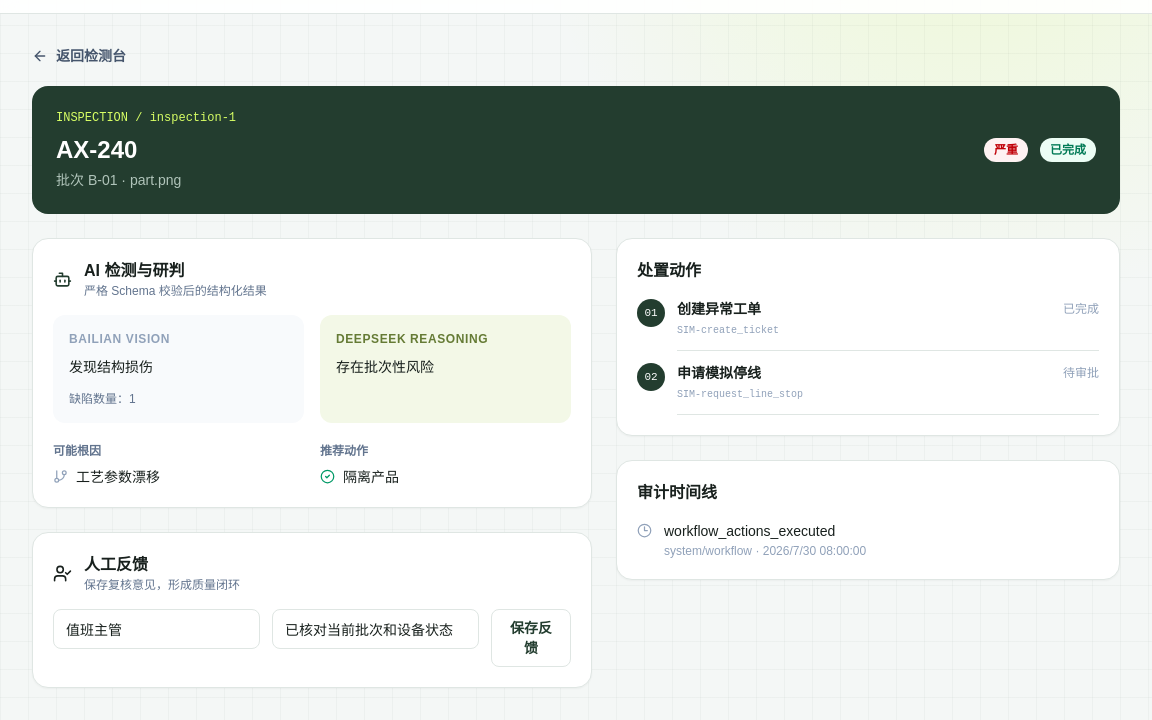
inspection detail › saves and displays human review feedback
(page scrolled)
Click the button "保存反馈": (531, 638) x1=491 y1=609 x2=571 y2=667
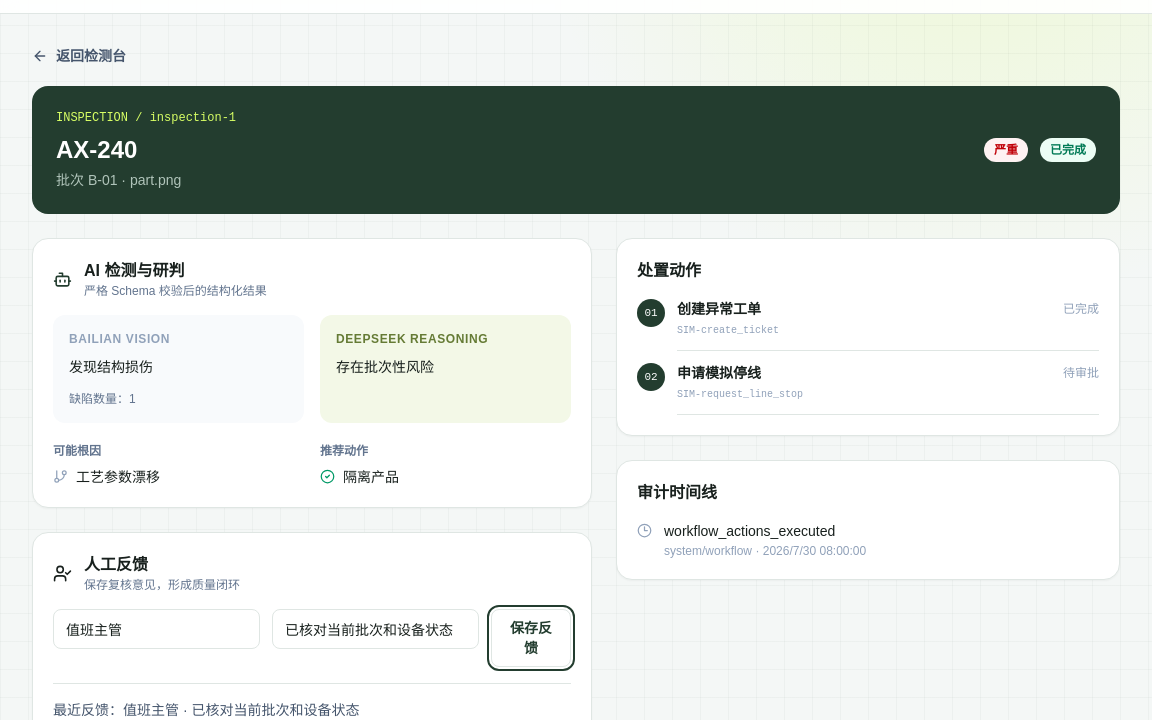
Now the text "最近反馈：值班主管 · 已核对当前批次和设备状态" is shown, box x1=53 y1=683 x2=571 y2=719
